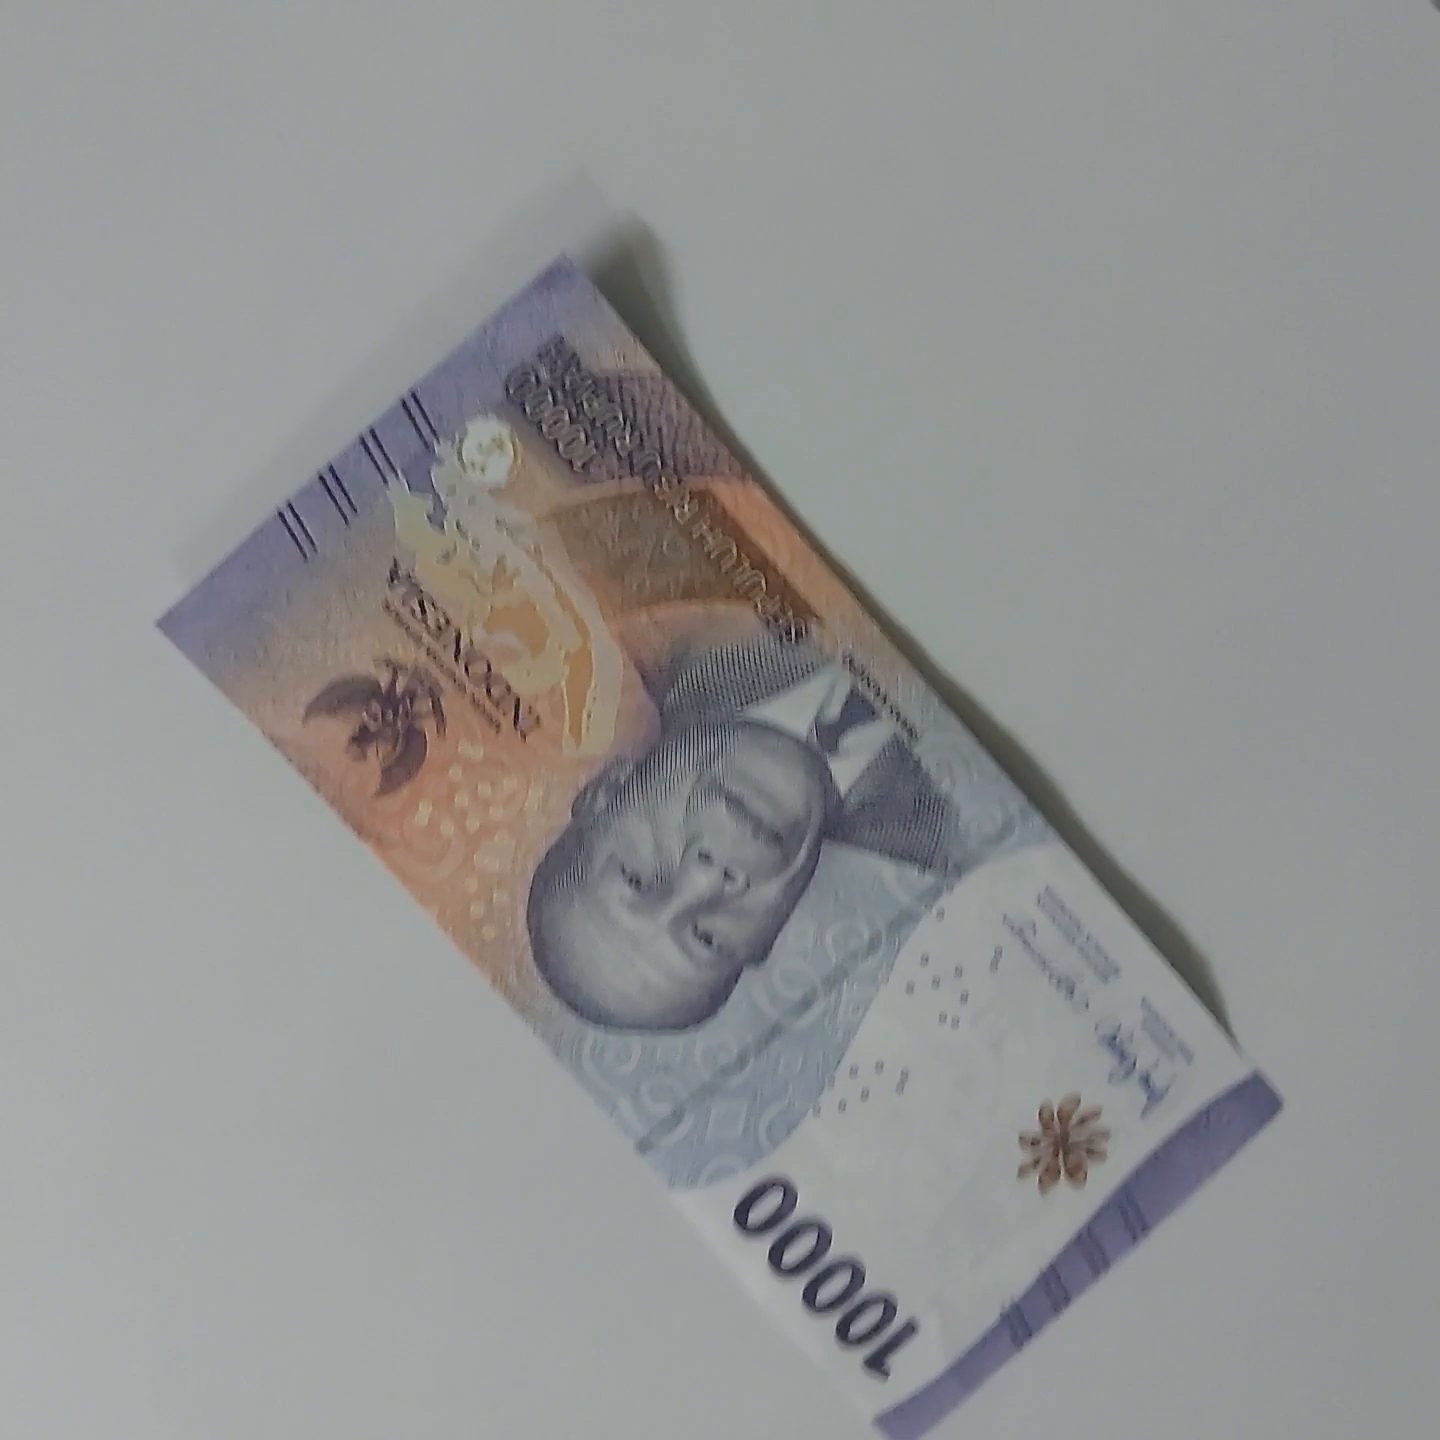10k: (149, 251, 1286, 1440)
